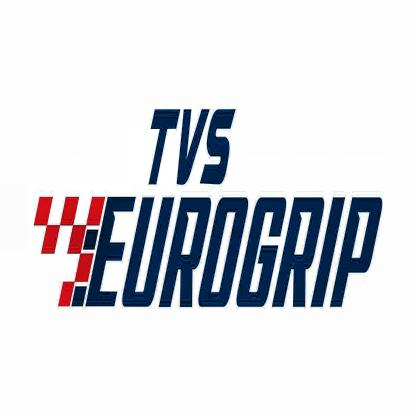TVS Eurogrip: (33, 103, 381, 309)
